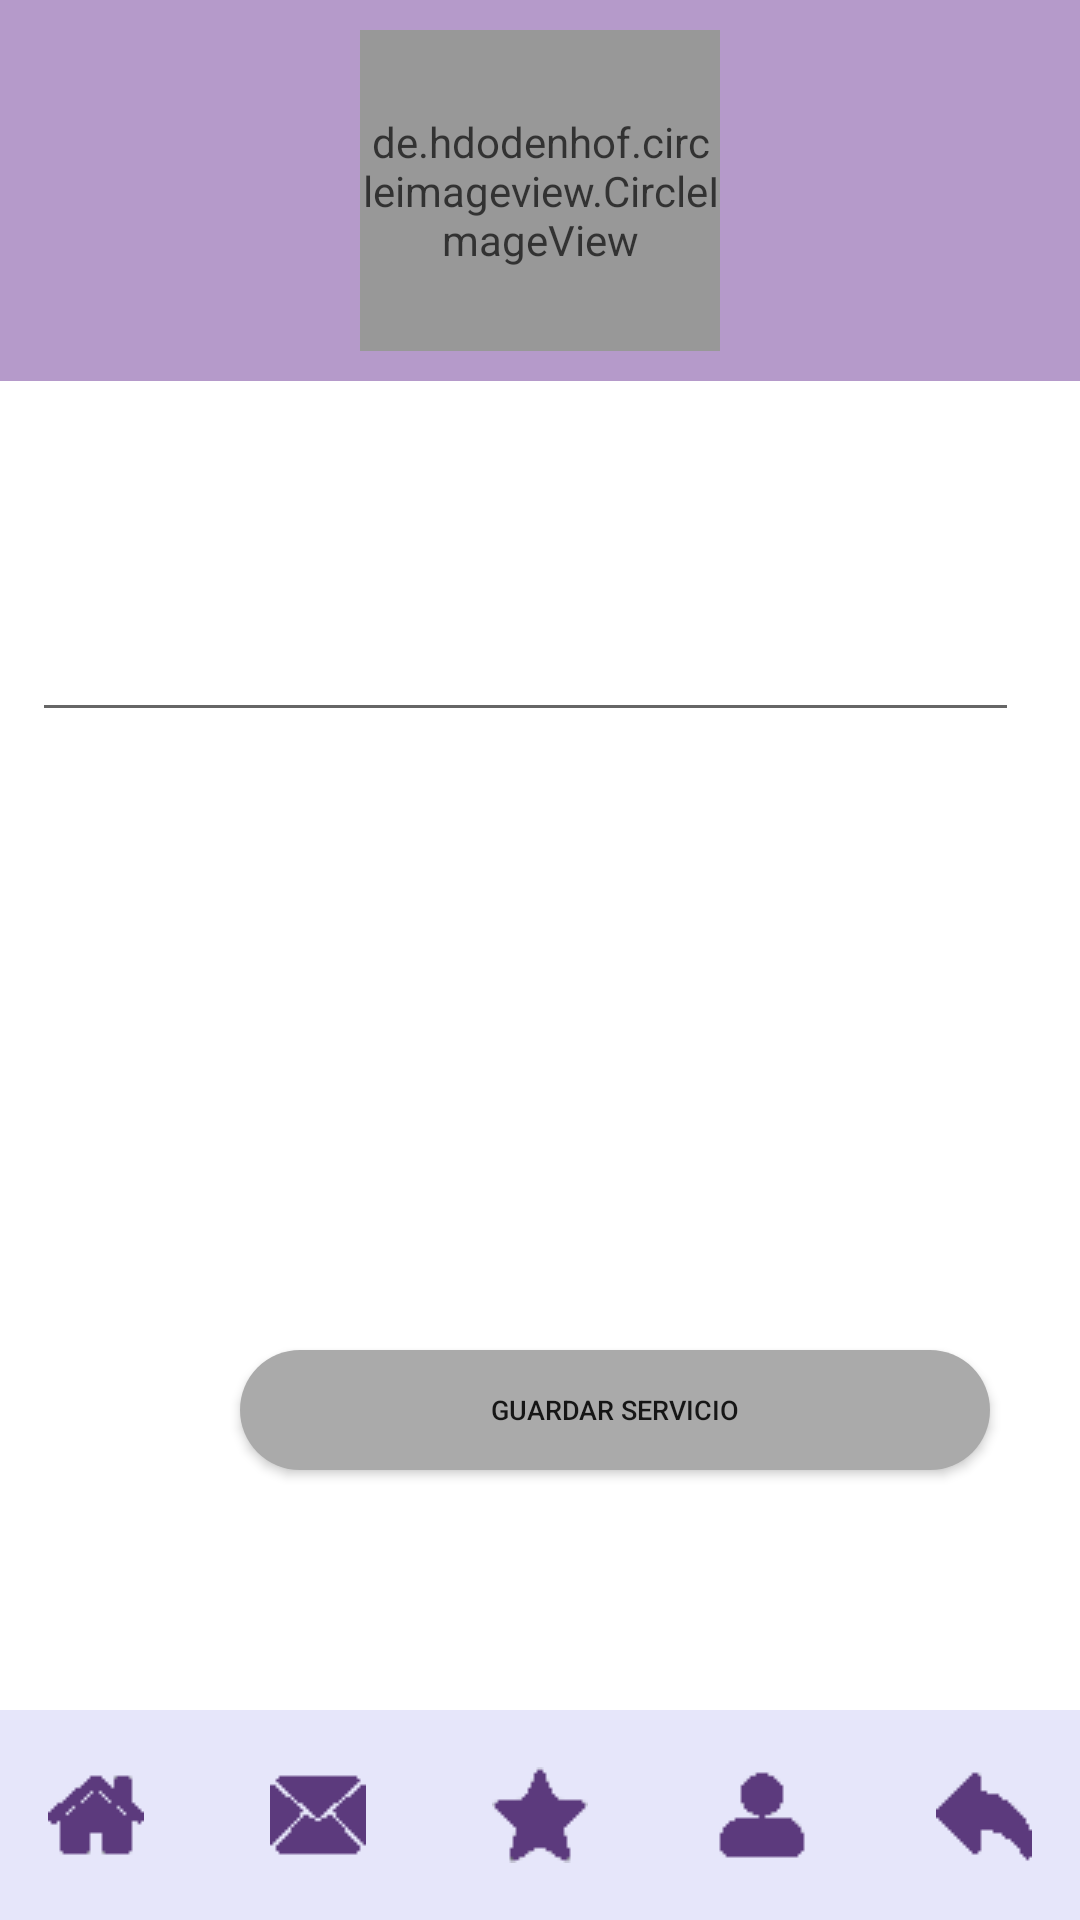

Point at icon controls on the screen. Image size 1080×1920, points as point (x, y).
back: point (984, 1816)
buzon: point (318, 1815)
favorito: point (540, 1816)
inicio: point (96, 1815)
perfil: point (762, 1815)
